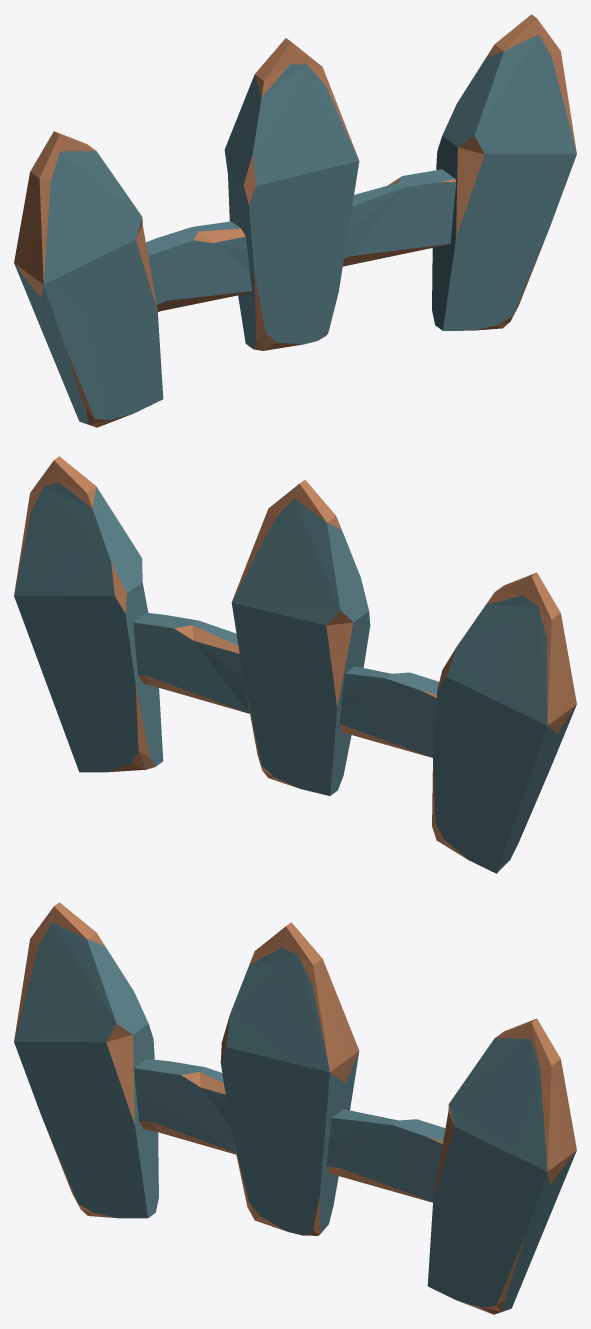
The model's file is Dis_Cit.001.fbx.
3 views of the same model, one above another, from view 1: azimuth 30°, elevation 25°; view 2: azimuth 150°, elevation 25°; view 3: azimuth 330°, elevation 25° (orthographic).
Parts seen in each view (by area): view 1: Dis_Cit.001; view 2: Dis_Cit.001; view 3: Dis_Cit.001.
Part boxes in pixels (<box>): Dis_Cit.001: <box>14,14,576,427</box>; Dis_Cit.001: <box>14,456,576,873</box>; Dis_Cit.001: <box>14,902,576,1314</box>.
Size of the model in its own units: 107 by 64.86 by 10.4.
